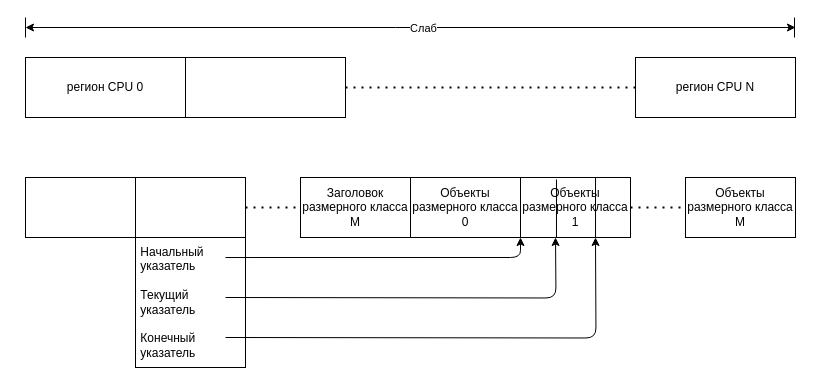
The diagram is 822 pixels wide and 385 high, and some of its shapes have lost their labels. The box of each missing label's shape, as (x1, y1, x2, y2) in pixels:
Заголовок размерного класса 0: (24, 176, 136, 238)
Заголовок размерного класса 1: (134, 176, 246, 238)
регион CPU 1: (184, 56, 346, 118)
